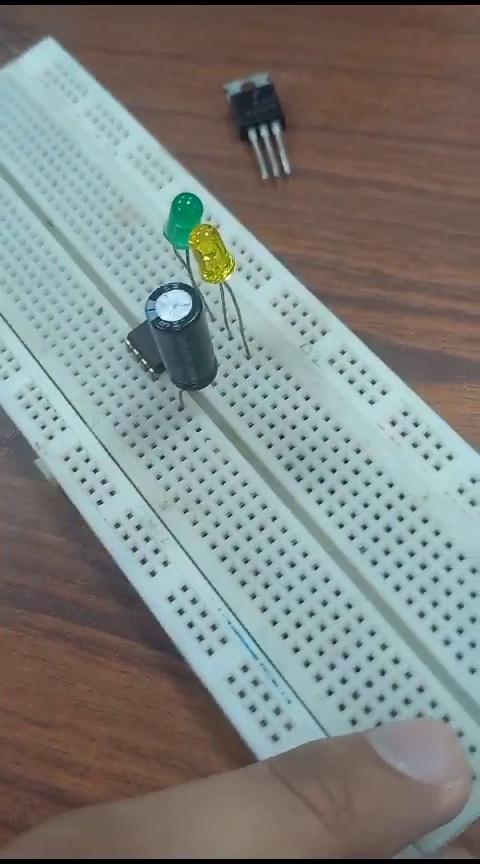IC: (120, 315, 167, 385)
LED: (166, 185, 202, 277), (192, 225, 244, 277)
capacitor: (140, 283, 219, 405)
voltage regulator: (216, 63, 295, 193)
